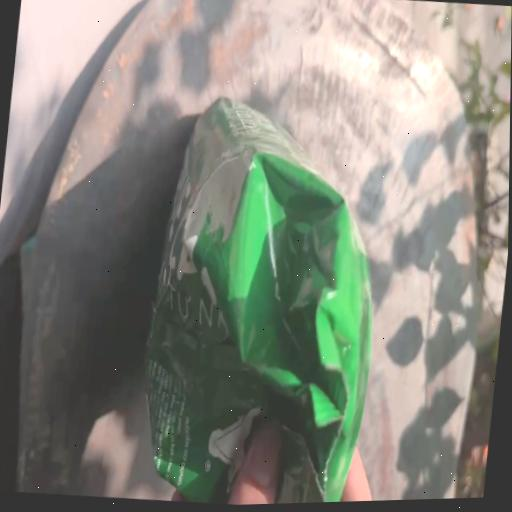cafe_xay: (145, 97, 372, 504)
